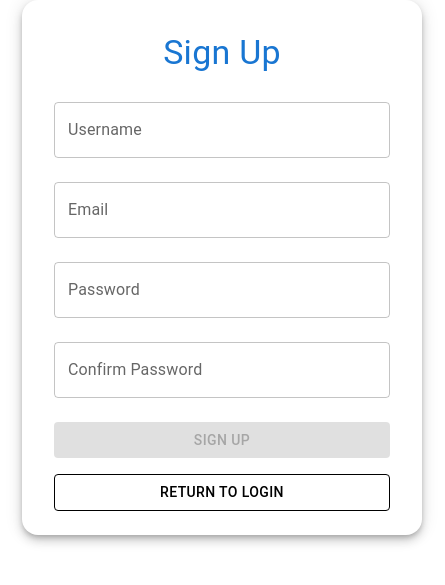
Test: SignUp Flow (BDD) › shows error when passwords do not match
The width and height of the screenshot is (445, 585).
Type "password123" into the password field labelled "Password" at (222, 290), box [54,262,390,318]
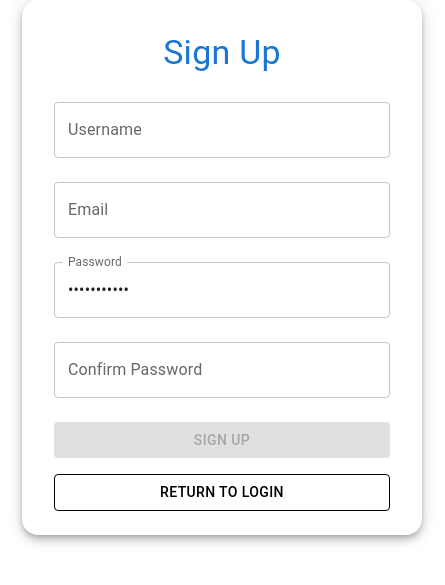
Type "different123" into the password field labelled "Confirm Password" at (222, 370), box [54,342,390,398]
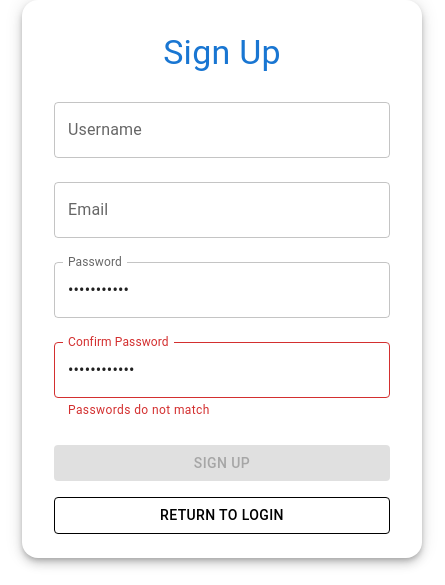
Expected: the text "Passwords do not match" is shown, [68,403,210,417]
